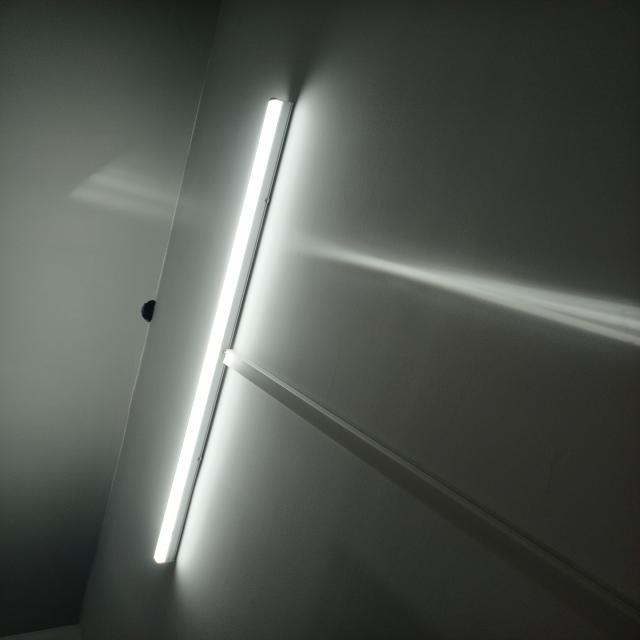light_on: (138, 82, 310, 572)
